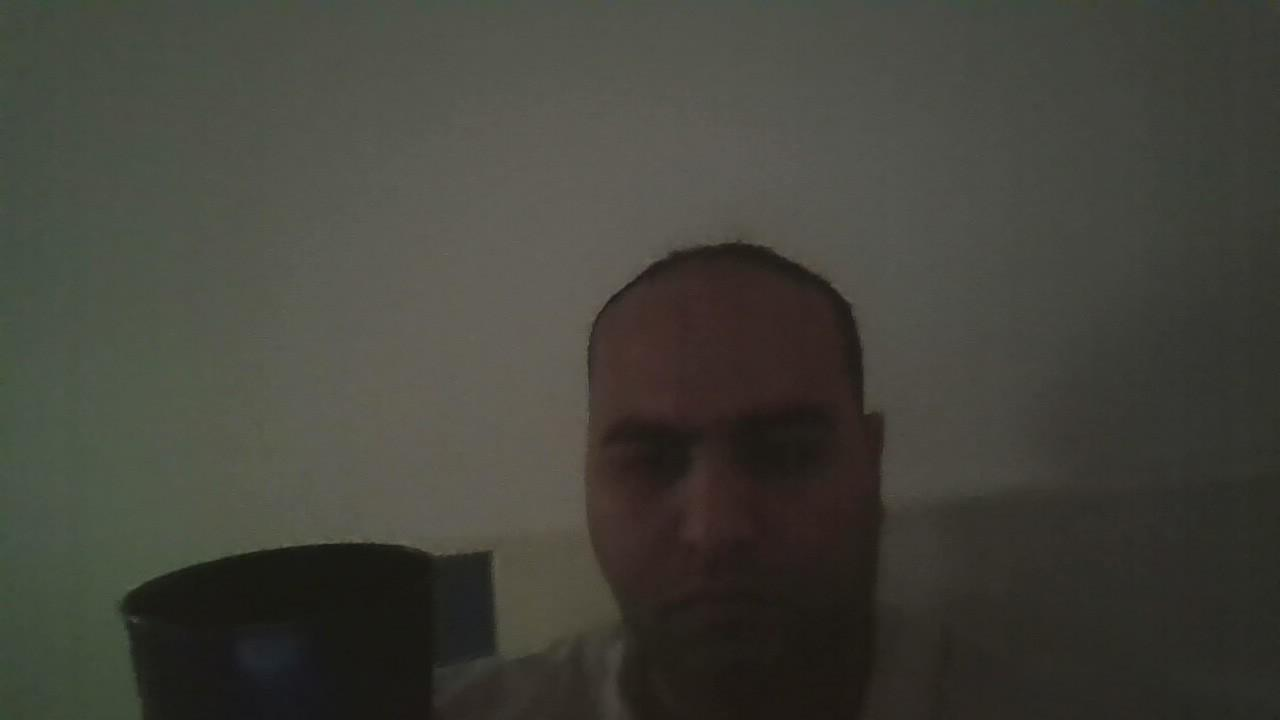cup: (121, 543, 433, 719)
